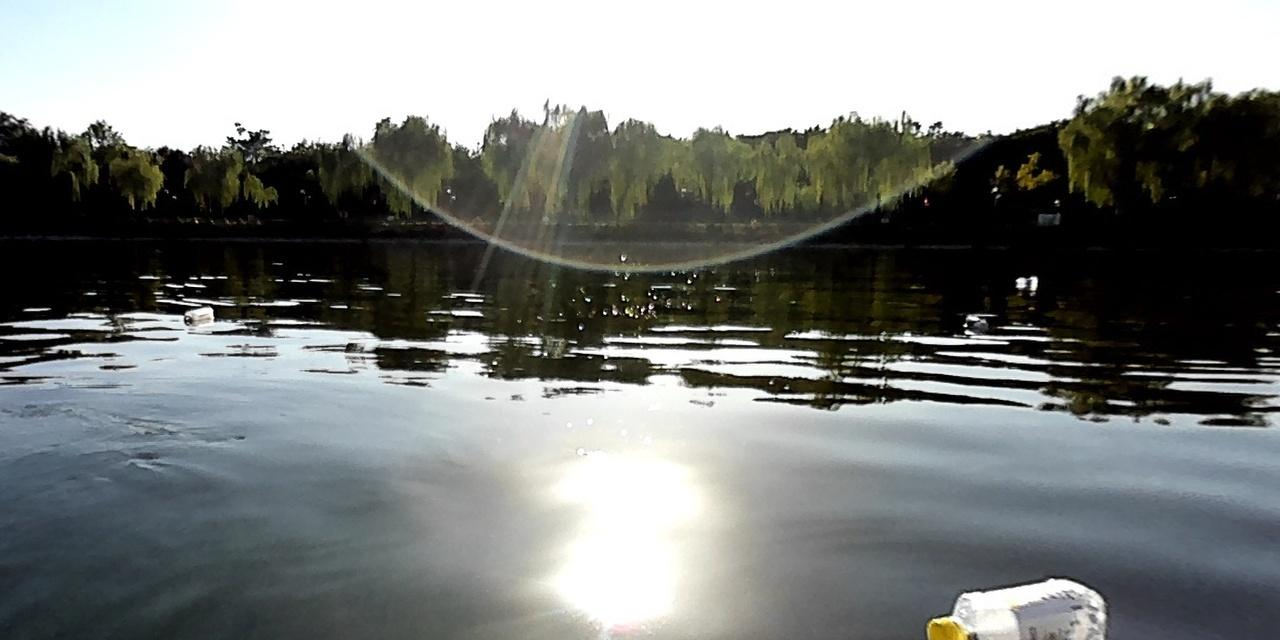bottle: (919, 573, 1116, 639), (1009, 273, 1041, 287)
